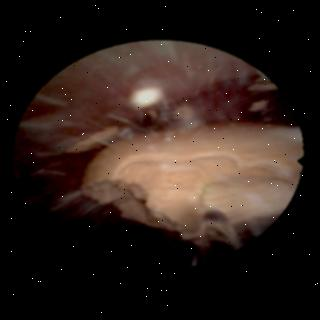stone: (83, 125, 301, 247), (70, 127, 118, 151), (246, 84, 276, 91), (250, 101, 268, 112)
